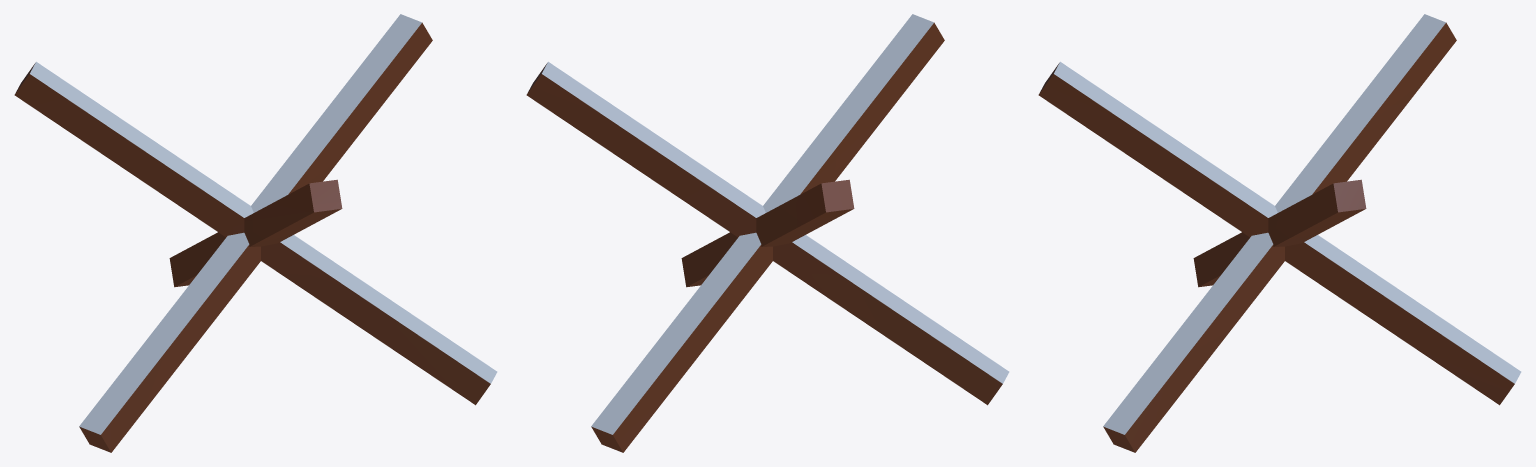
The model's file is hedgehog.glb.
The picture shows the model from 3 angles, left to right: view 1: azimuth 30°, elevation 25°; view 2: azimuth 150°, elevation 25°; view 3: azimuth 270°, elevation 25°; orthographic projection.
Visible parts, largest first — view 1: Prop; view 2: Prop; view 3: Prop.
Boxes of the visible parts, x1,y1,x2,y2 form: Prop: (14,14,497,452); Prop: (526,14,1009,452); Prop: (1038,14,1521,452).
Size of the model in its own units: 1.59 by 1.06 by 1.61.
